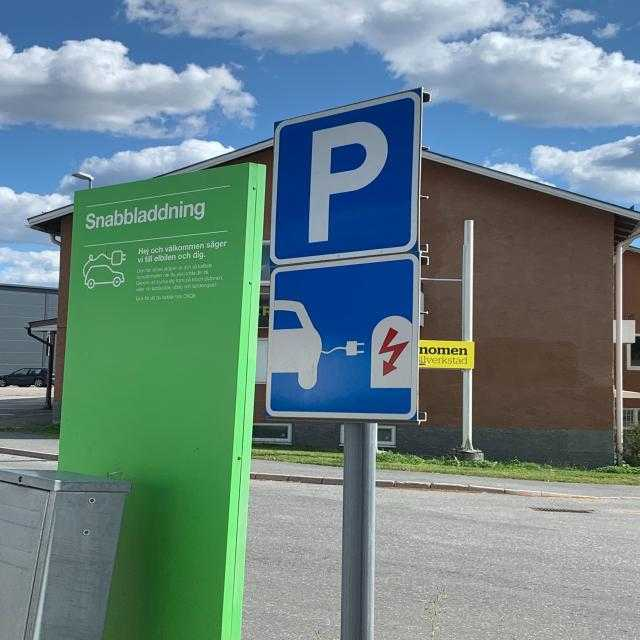psign: (270, 88, 422, 266)
